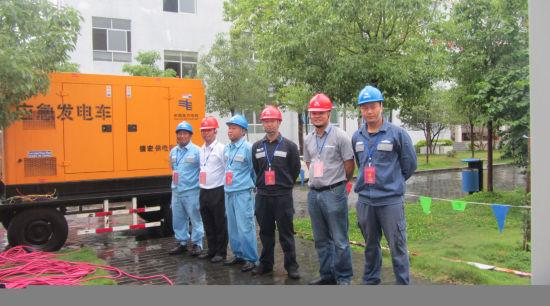helmet: (359, 86, 383, 105), (309, 95, 333, 113), (227, 116, 250, 133), (262, 106, 284, 122), (201, 116, 220, 134), (176, 123, 195, 136)
